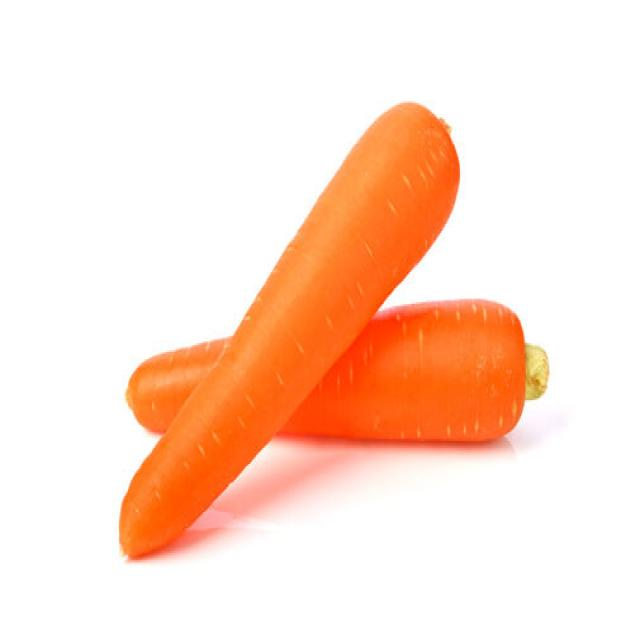Carrot: (118, 98, 460, 558), (124, 297, 549, 444)
